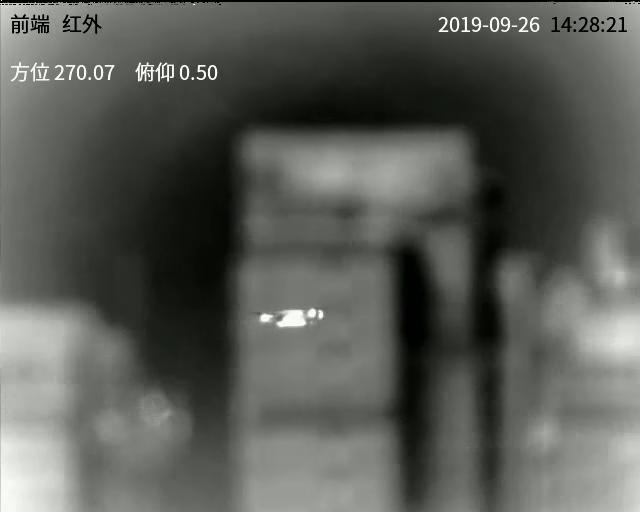uav: (257, 300, 326, 333)
